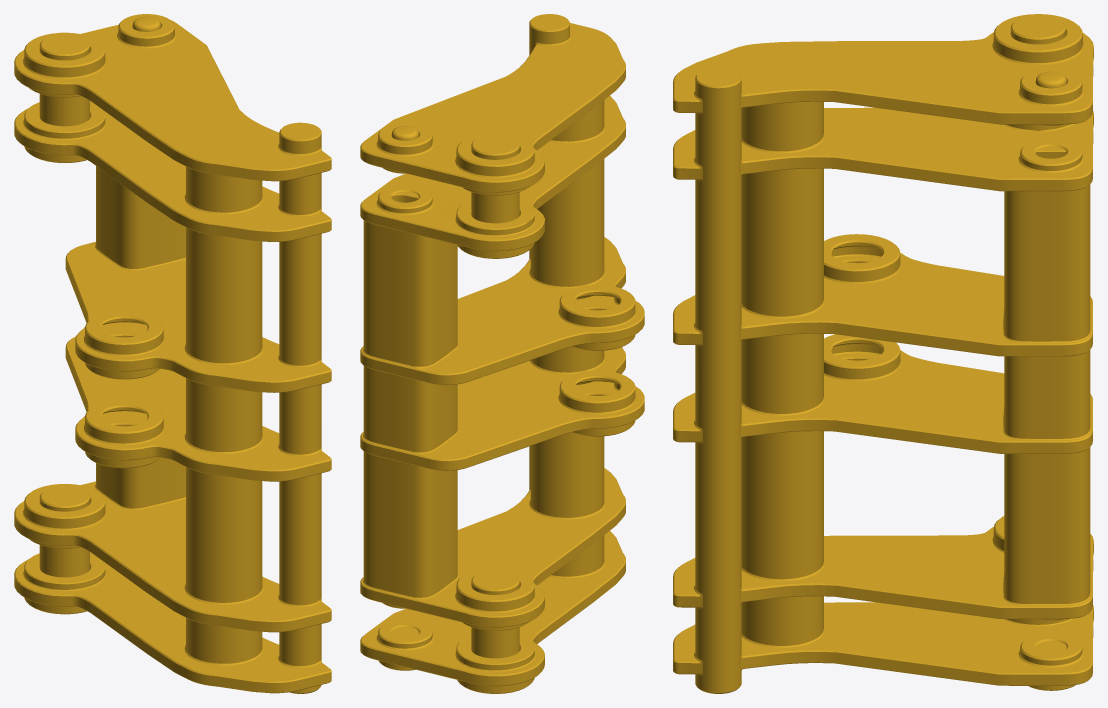
File: bucket_clamp.obj
3 views of the same model, side by side, from view 1: azimuth 30°, elevation 25°; view 2: azimuth 150°, elevation 25°; view 3: azimuth 270°, elevation 25° (orthographic). The views are drawn at different scales.
Visible parts, largest first — view 1: BucketClamp_0002, BucketClamp_0001, BucketClamp_0000; view 2: BucketClamp_0002, BucketClamp_0001, BucketClamp_0000; view 3: BucketClamp_0000, BucketClamp_0002, BucketClamp_0001.
Part boxes in pixels (bbox=[...]): BucketClamp_0002: bbox=[14, 14, 331, 693]; BucketClamp_0001: bbox=[52, 24, 331, 693]; BucketClamp_0000: bbox=[14, 22, 321, 692]; BucketClamp_0002: bbox=[360, 14, 644, 693]; BucketClamp_0001: bbox=[360, 26, 619, 693]; BucketClamp_0000: bbox=[360, 20, 644, 692]; BucketClamp_0000: bbox=[674, 36, 1085, 693]; BucketClamp_0002: bbox=[673, 14, 1093, 692]; BucketClamp_0001: bbox=[673, 28, 1093, 689].
Bounding box in the file's own units: 0.4684 × 1.32 × 0.8199.
